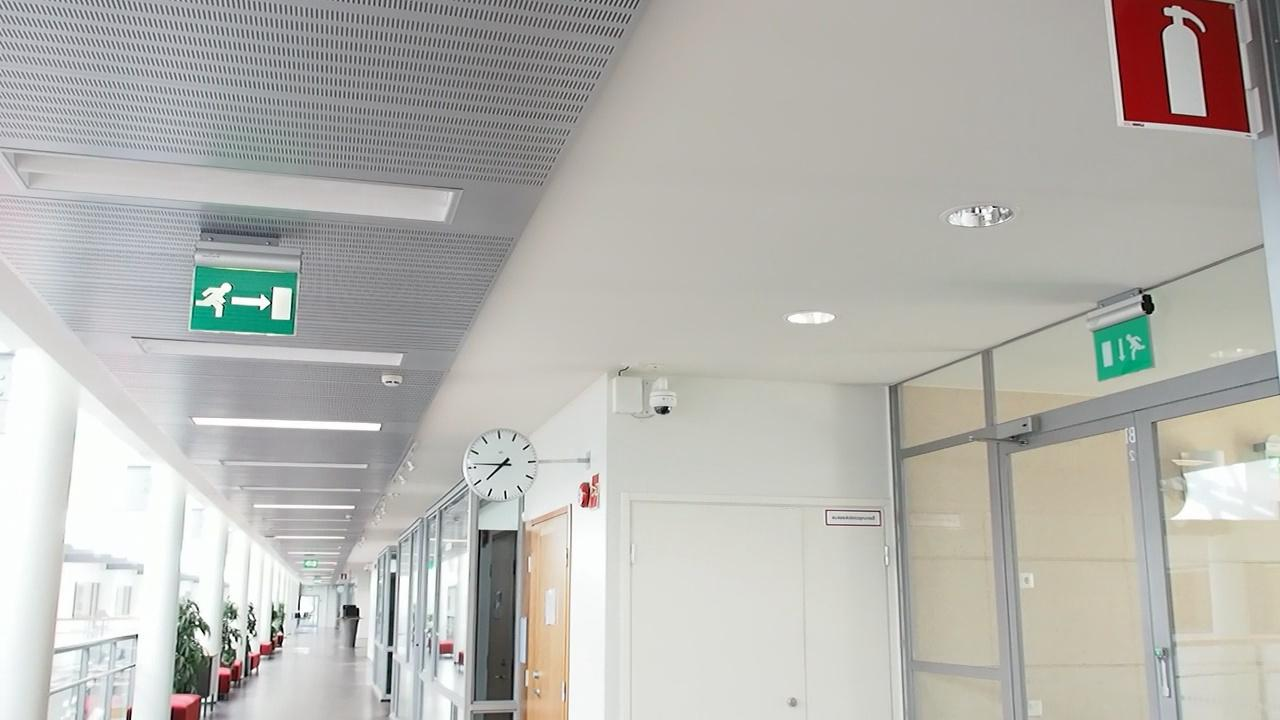clock: (459, 431, 539, 509)
exit: (181, 263, 297, 339), (1094, 316, 1155, 386)
fireextinguisher: (1122, 9, 1246, 126)
